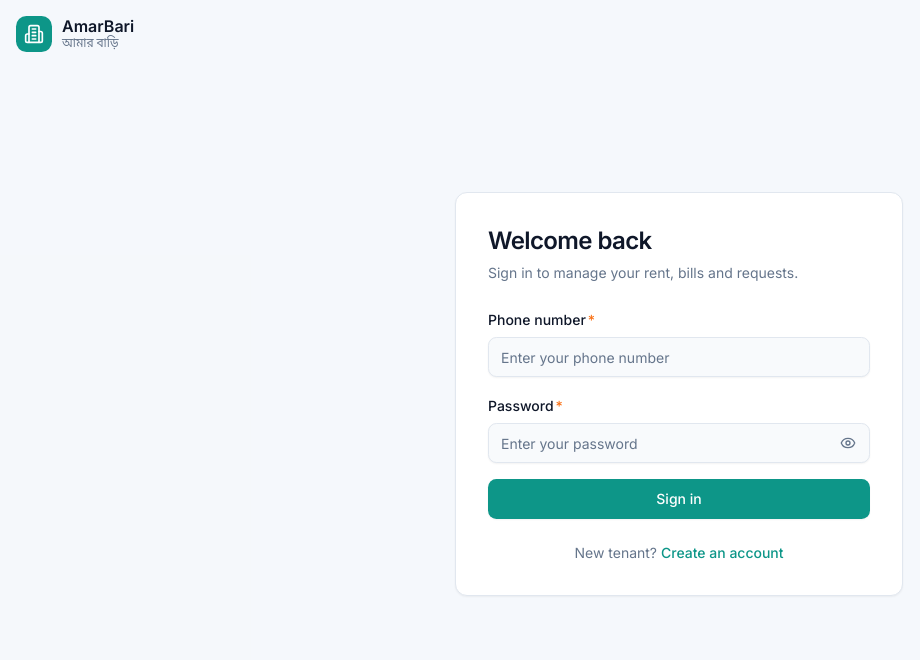
it: LoginPage › shows the server error on a bad password and keeps the user signed out
Type "01711111111" into the field labelled "Phone number*".
click(679, 357); type("01711111111")  # box [488, 337, 870, 377]
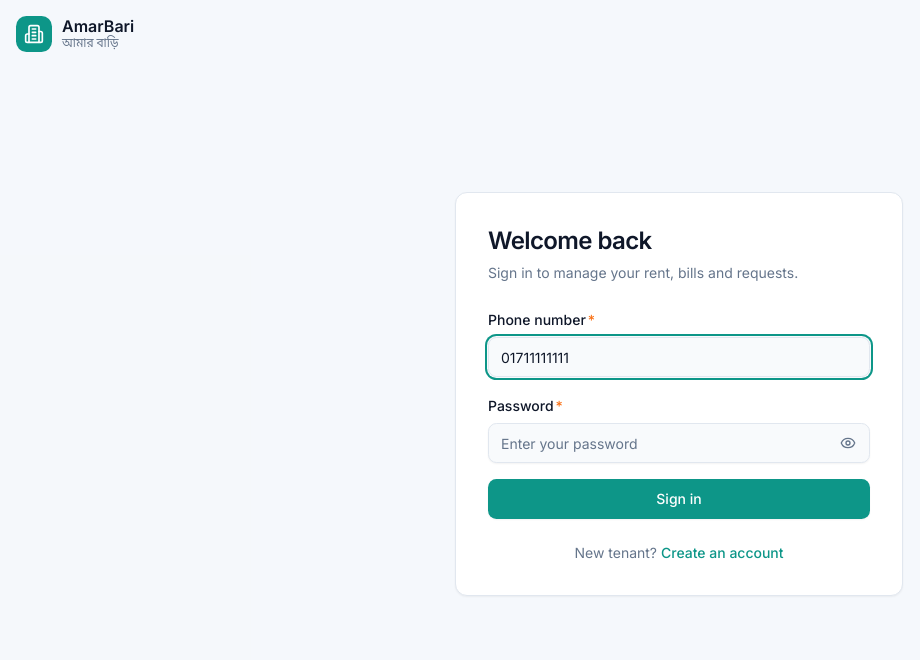
Type "WrongPassword1" into the password field labelled "Password*".
click(679, 443); type("WrongPassword1")  # box [488, 423, 870, 463]
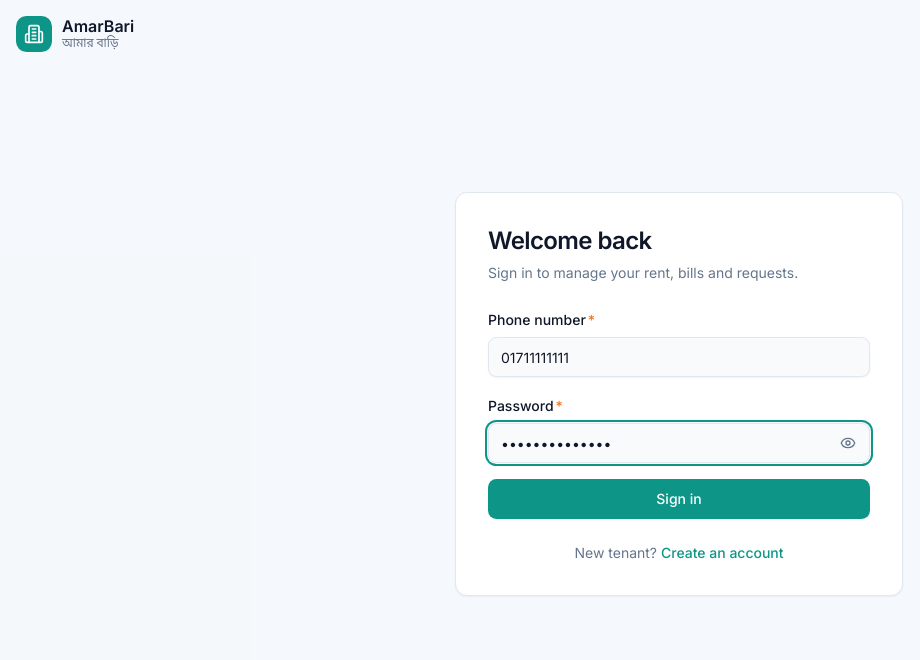
Click the button "Sign in".
click(679, 499)  # box [488, 479, 870, 519]
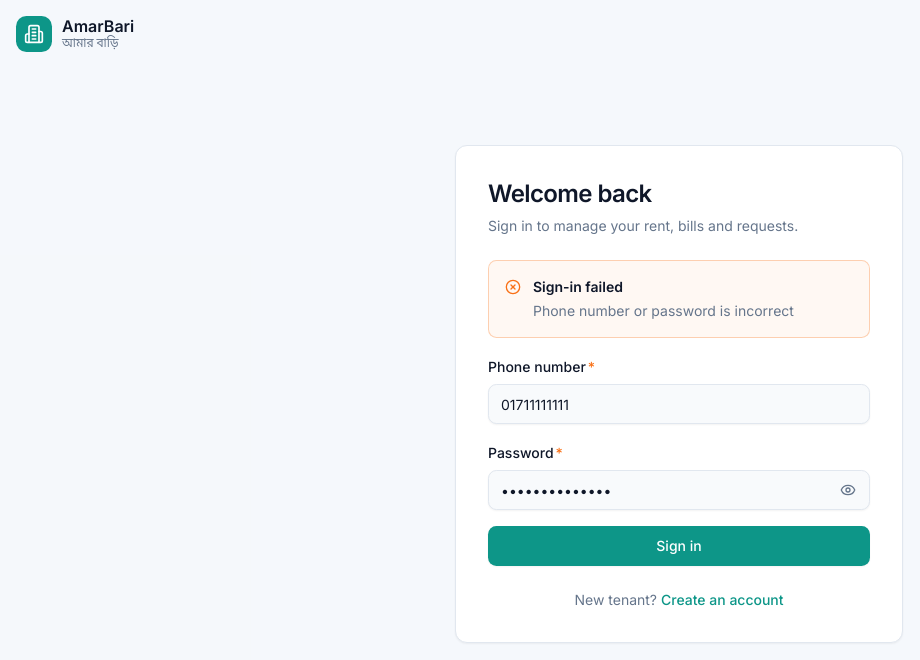
Expected: the message shows "incorrect", [533, 302, 794, 319]
